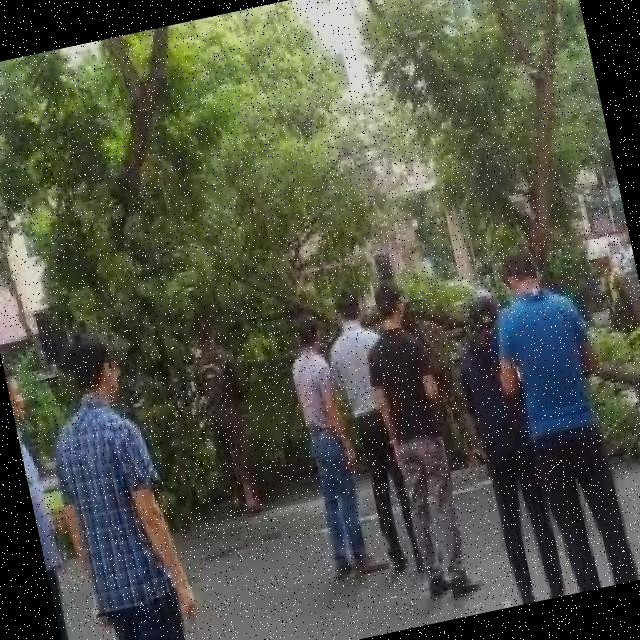fallen_object: (212, 160, 640, 571)
